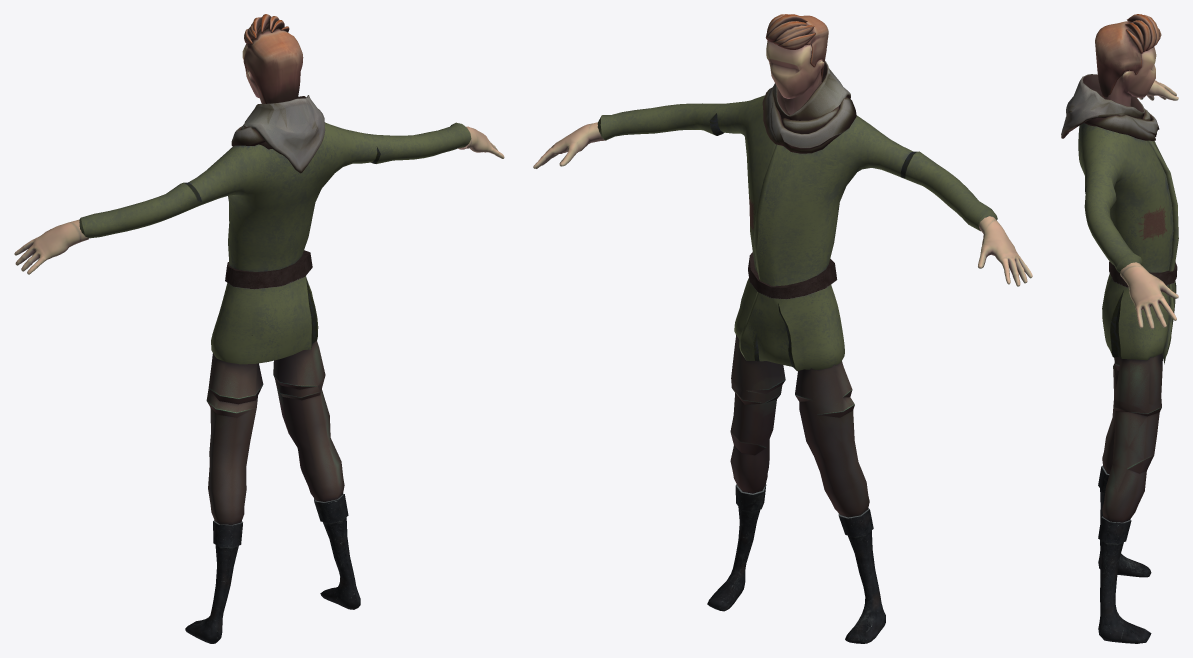
The model's file is mc_itter3.fbx.
3 views of the same model, side by side, from view 1: azimuth 30°, elevation 25°; view 2: azimuth 150°, elevation 25°; view 3: azimuth 270°, elevation 25° (orthographic). The views are drawn at different scales.
Parts seen in each view (by area): view 1: str1_001, mchar_body; view 2: str1_001, mchar_body; view 3: str1_001, mchar_body.
Part boxes in pixels (x1,y1,x2,y2): str1_001: (79,95,471,643); mchar_body: (14,14,504,274); str1_001: (597,61,997,643); mchar_body: (533,14,1032,286); str1_001: (1061,74,1178,643); mchar_body: (1095,14,1178,329).
Bounding box in the file's own units: 32.39 × 150 × 180.
